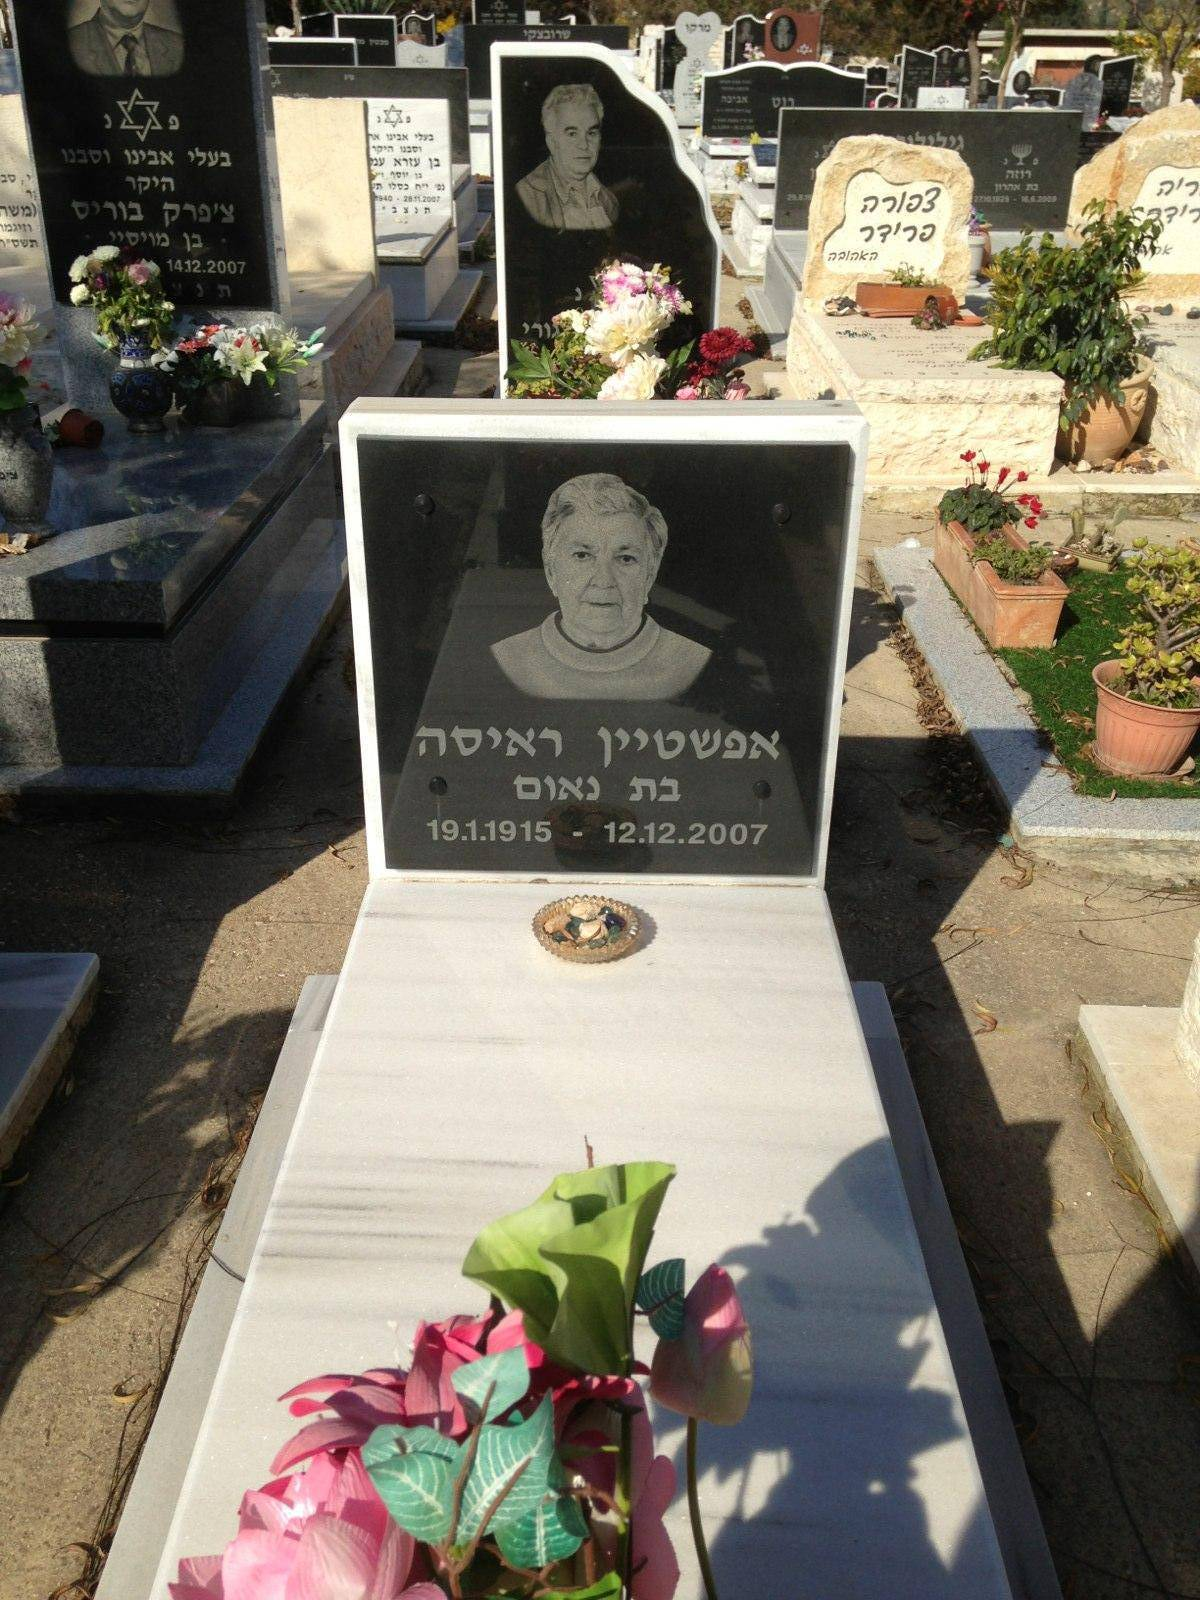vault: (77, 351, 1037, 1589)
